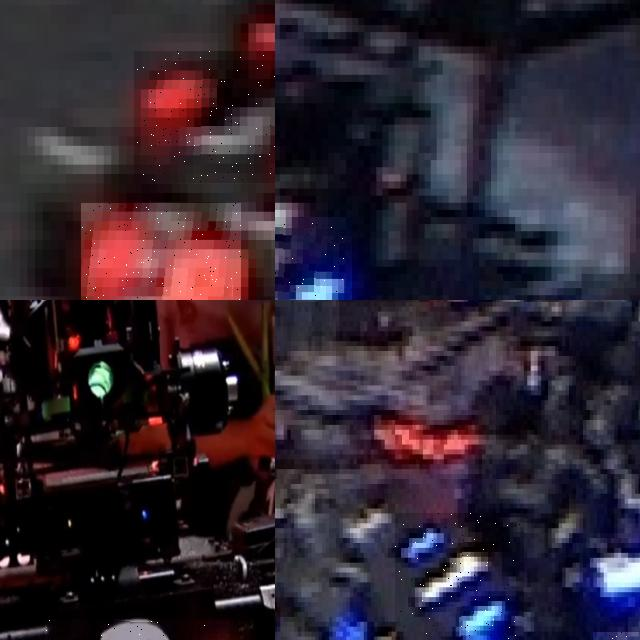B1: (395, 513, 523, 640), (275, 216, 352, 300)
R3: (134, 51, 275, 183), (81, 202, 241, 300)
